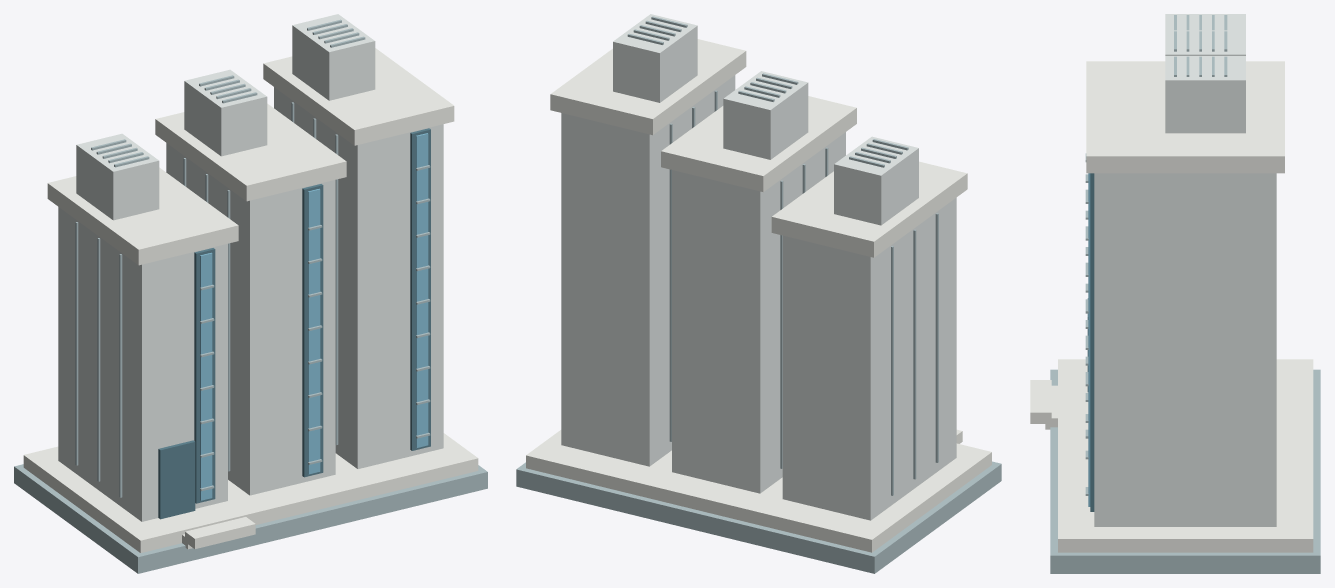
The model's file is 02_three_module_complex.glb.
3 views of the same model, side by side, from view 1: azimuth 30°, elevation 25°; view 2: azimuth 150°, elevation 25°; view 3: azimuth 270°, elevation 25° (orthographic). The views are drawn at different scales.
Parts seen in each view (by area): view 1: module_body (×3), roof_overhang (×3), rooftop_plant (×3), plinth, front_glass (×3), foundation, front_glazing_channel (×3), side_vertical_seam (×5), entry_door, entry_steps; view 2: module_body (×3), roof_overhang (×3), rooftop_plant (×3), plinth, foundation, side_vertical_seam (×5); view 3: module_body, plinth, roof_overhang (×3), rooftop_plant (×3), foundation, front_glazing_channel, front_glass, entry_steps.
Boxes of the visible parts, x1,y1,x2,y2 form: module_body (×3): (58,87,443,521); roof_overhang (×3): (47,48,454,265); rooftop_plant (×3): (76,14,375,220); plinth: (23,433,478,552); front_glass (×3): (200,133,428,500); foundation: (14,464,487,573); front_glazing_channel (×3): (194,128,430,503); side_vertical_seam (×5): (75,134,338,497); entry_door: (158,440,195,519); entry_steps: (185,517,255,548); module_body (×3): (561,75,956,520); roof_overhang (×3): (550,39,967,257); rooftop_plant (×3): (613,14,918,225); plinth: (526,430,991,552); foundation: (516,461,1001,573); side_vertical_seam (×5): (669,123,938,495); module_body: (1094,173,1276,526); plinth: (1058,359,1313,552); roof_overhang (×3): (1086,61,1284,173); rooftop_plant (×3): (1165,14,1245,133); foundation: (1050,369,1320,573); front_glazing_channel: (1090,173,1094,511); front_glass: (1088,173,1090,506); entry_steps: (1030,380,1051,423).
Size of the model in its own units: 3.5 by 4.07 by 2.31.
